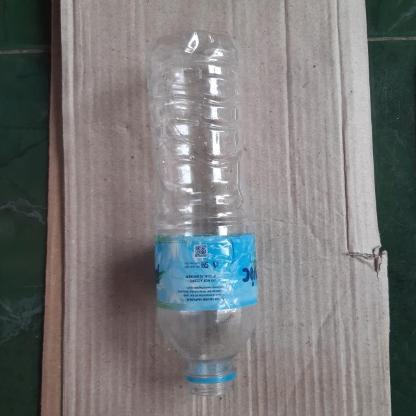Plastic Bottle: (150, 32, 260, 398)
